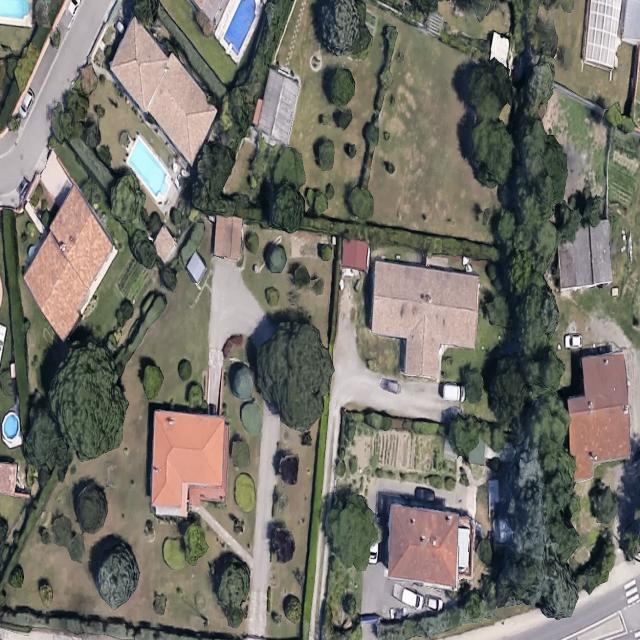maison: (94, 14, 236, 166), (5, 184, 135, 342), (358, 259, 486, 383), (562, 350, 635, 481), (147, 409, 230, 518), (387, 504, 475, 591), (252, 67, 305, 146), (556, 220, 613, 290), (211, 215, 244, 260)
